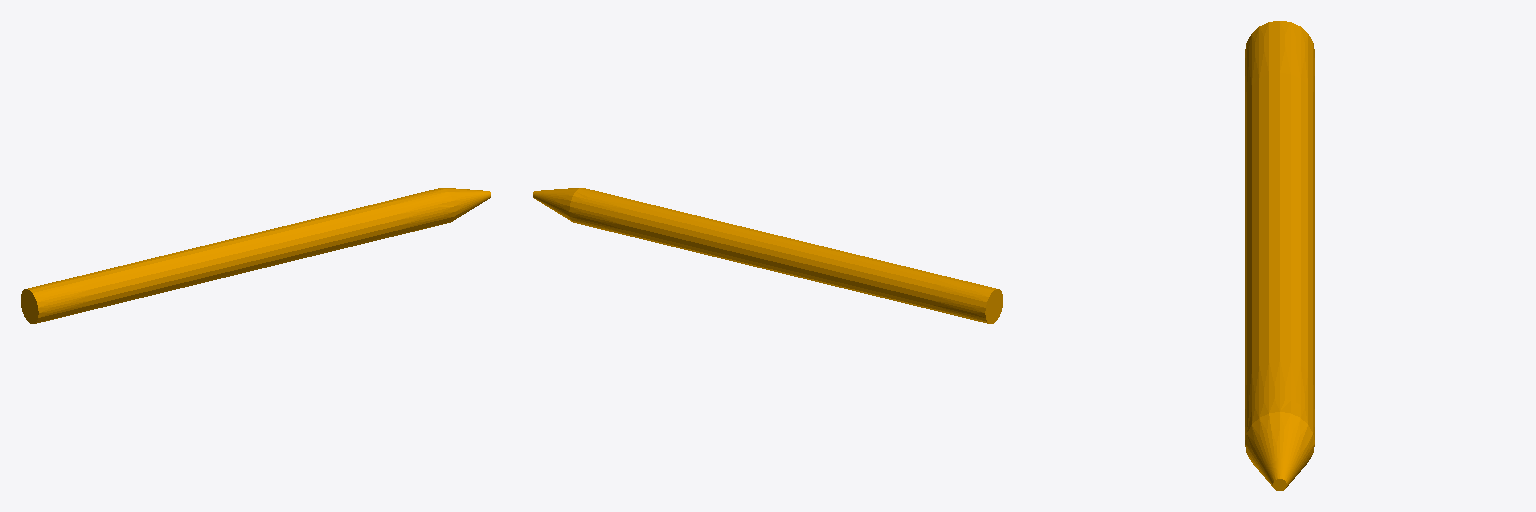
robot.urdf — pen:
<?xml version="1.0"?>
<robot name="pen">

  <link name="pen">
    <material name="pen_color">
      <color rgba="0.5 0.5 0.5 1.0"/>
    </material>

    <visual>
      <origin xyz="0.0 0.0 0.0"/>
      <geometry>
        <mesh filename="../../meshes/objects/pen.obj" scale="0.001 0.001 0.001"/>
      </geometry>
    </visual>
    <collision>
      <origin xyz="0.0 0.0 0.0"/>
      <geometry>
        <mesh filename="../../meshes/objects/pen_vhacd.obj" scale="0.001 0.001 0.001"/>
      </geometry>
    </collision>
  </link>
  
</robot>

--- What the picture shows (computed from the rendered views, not written in the file) ---
The picture shows the robot from 3 angles, left to right: view 1: azimuth 30°, elevation 25°; view 2: azimuth 150°, elevation 25°; view 3: azimuth 270°, elevation 25°; orthographic projection.
Robot: pen — 1 links, 0 joints (none); root link pen; default pose: all joints at 0.
Links seen in each view (by area): view 1: pen; view 2: pen; view 3: pen.
Link boxes in pixels (left/top/right/bottom): pen: left=21, top=188, right=490, bottom=323; pen: left=533, top=188, right=1002, bottom=323; pen: left=1245, top=21, right=1314, bottom=490.
Bounding box of the posed robot: 0.146 × 0.01 × 0.01 m (x, y, z).
Meshes: 1 distinct files referenced, 1 mesh visuals loaded (1 OBJ).